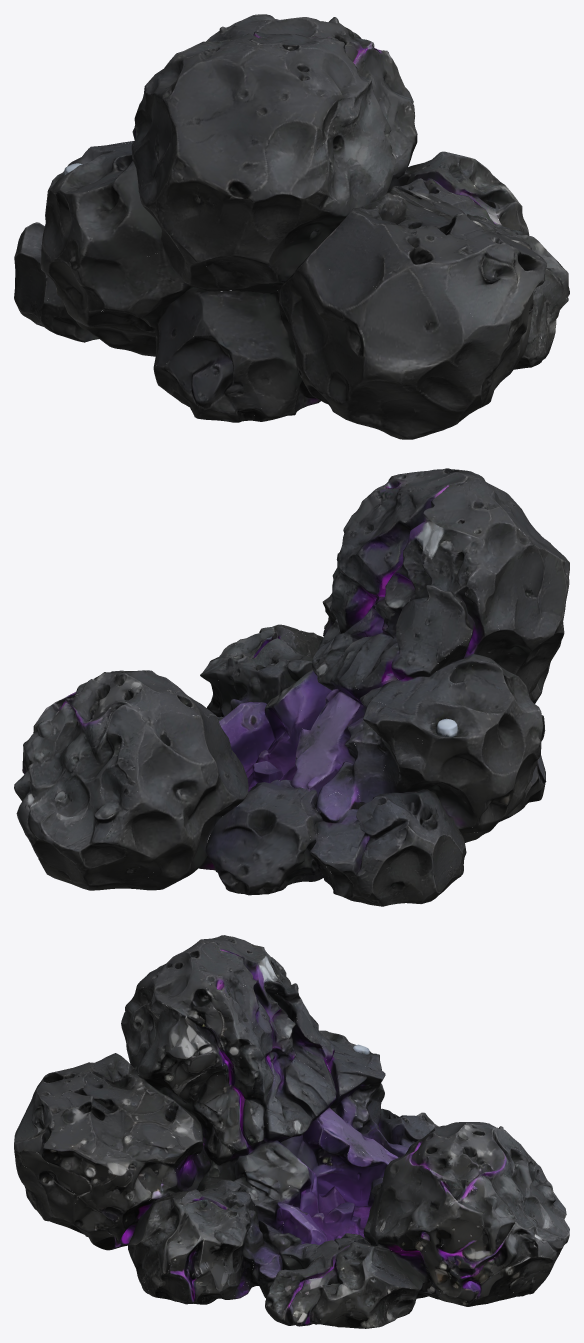
File: Optimized_Source.glb
3 views of the same model, one above another, from view 1: azimuth 30°, elevation 25°; view 2: azimuth 150°, elevation 25°; view 3: azimuth 270°, elevation 25° (orthographic). The views are drawn at different scales.
Parts seen in each view (by area): view 1: tripo_node_3800e44b-2718-454d-b904-dbe56a842c33; view 2: tripo_node_3800e44b-2718-454d-b904-dbe56a842c33; view 3: tripo_node_3800e44b-2718-454d-b904-dbe56a842c33.
Part boxes in pixels (x1,y1,x2,y2): tripo_node_3800e44b-2718-454d-b904-dbe56a842c33: (14, 14, 569, 439); tripo_node_3800e44b-2718-454d-b904-dbe56a842c33: (14, 468, 569, 906); tripo_node_3800e44b-2718-454d-b904-dbe56a842c33: (14, 935, 569, 1328).
Bounding box in the file's own units: 0.7535 × 0.5206 × 1.
1 material, 1 textured.
